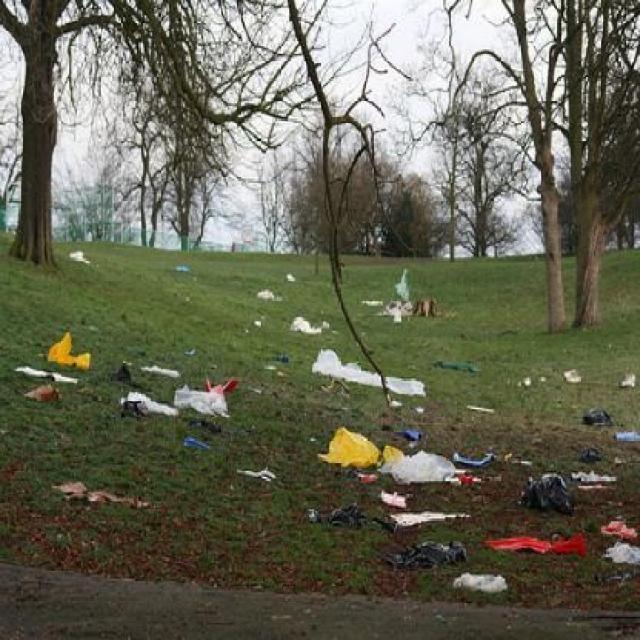garbage: (335, 403, 634, 599), (11, 303, 252, 500), (359, 260, 440, 337), (291, 306, 352, 398), (66, 232, 92, 266), (256, 282, 277, 303), (163, 263, 198, 274), (286, 262, 296, 286)
